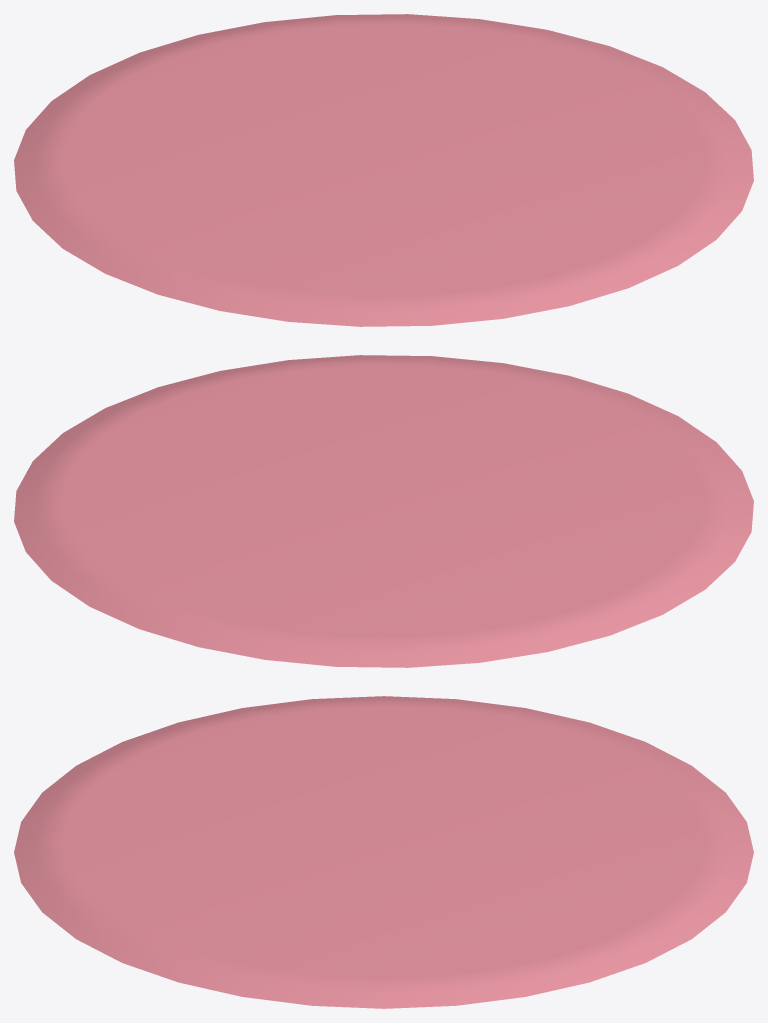
The model's file is fallingStarsPoolNormal.fbx.
3 renders of one model, top to bottom at view 1: azimuth 30°, elevation 25°; view 2: azimuth 150°, elevation 25°; view 3: azimuth 270°, elevation 25°, orthographic.
Visible parts, largest first — view 1: Cylinder; view 2: Cylinder; view 3: Cylinder.
Boxes of the visible parts, x1=… form: Cylinder: x1=14, y1=14, x2=753, y2=326; Cylinder: x1=14, y1=355, x2=753, y2=667; Cylinder: x1=14, y1=696, x2=753, y2=1008.
Size of the model in its own units: 867 by 12.96 by 867.
